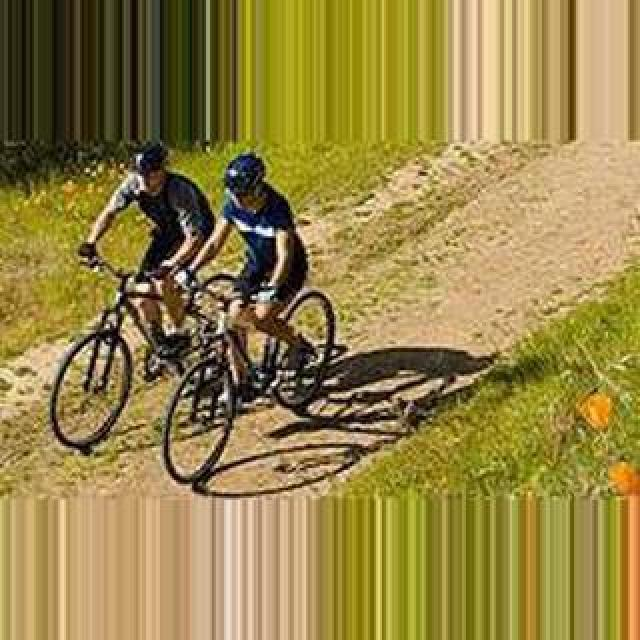MC-Bike: (80, 142, 226, 414), (212, 152, 308, 318)
Person: (47, 257, 247, 449), (163, 278, 341, 488)
